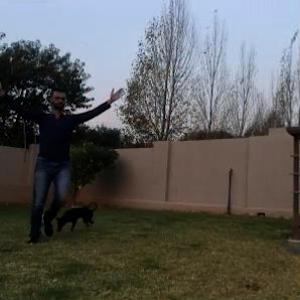takeoff: (3, 82, 125, 250)
